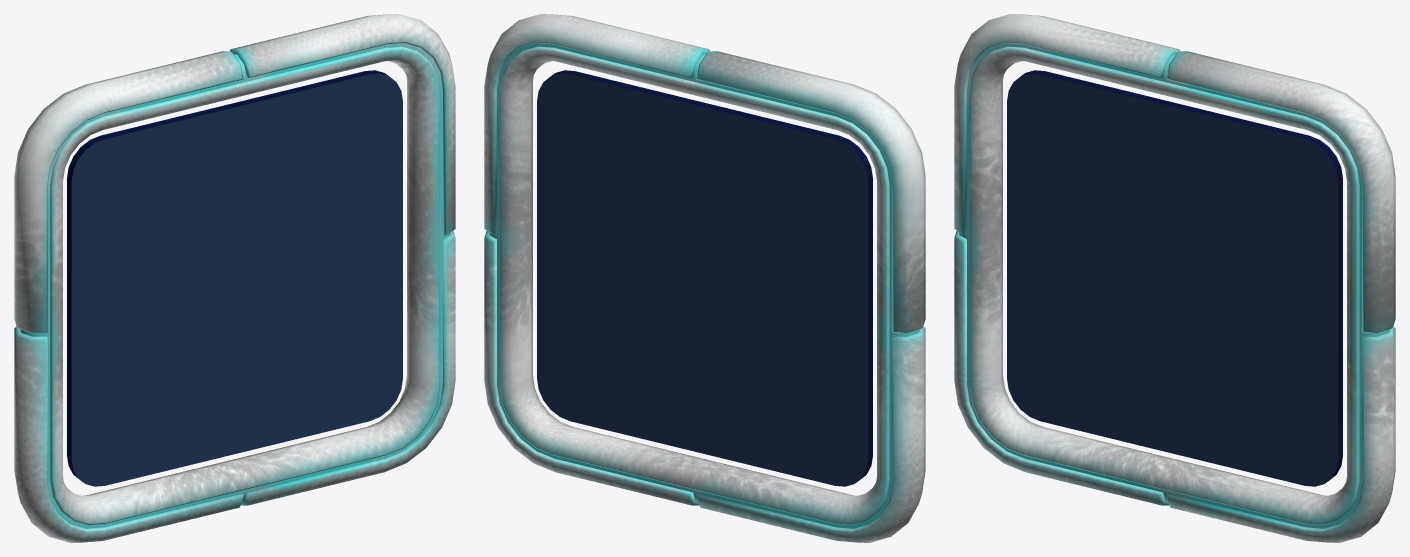
The model's file is Sign01.FBX.
The picture shows the model from 3 angles, left to right: view 1: azimuth 30°, elevation 25°; view 2: azimuth 150°, elevation 25°; view 3: azimuth 330°, elevation 25°; orthographic projection.
Parts seen in each view (by area): view 1: Sign01; view 2: Sign01; view 3: Sign01.
Boxes of the visible parts, bbox=[...] form: Sign01: bbox=[14, 14, 455, 542]; Sign01: bbox=[484, 14, 925, 542]; Sign01: bbox=[954, 14, 1395, 542].
Size of the model in its own units: 100 by 100 by 9.23.
